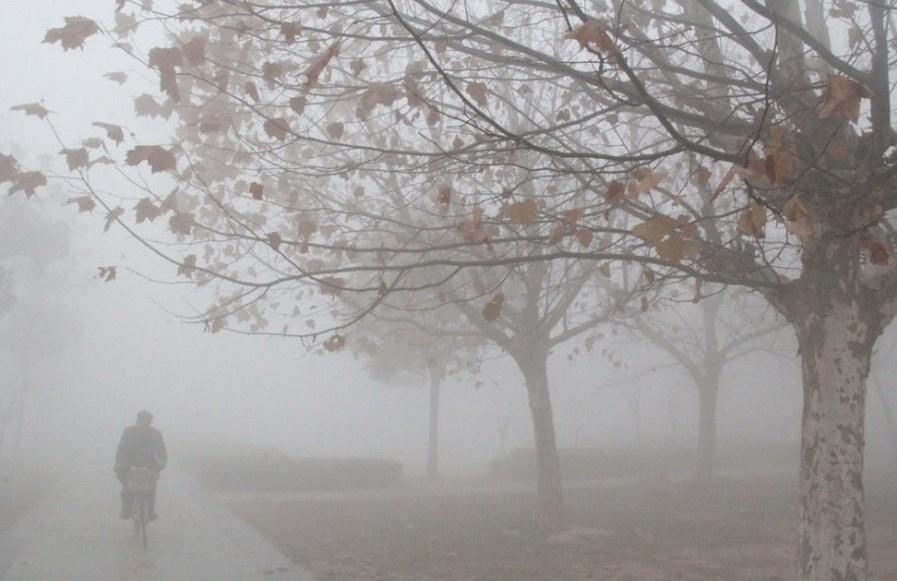bicycle: (113, 463, 169, 554)
person: (113, 411, 169, 521)
